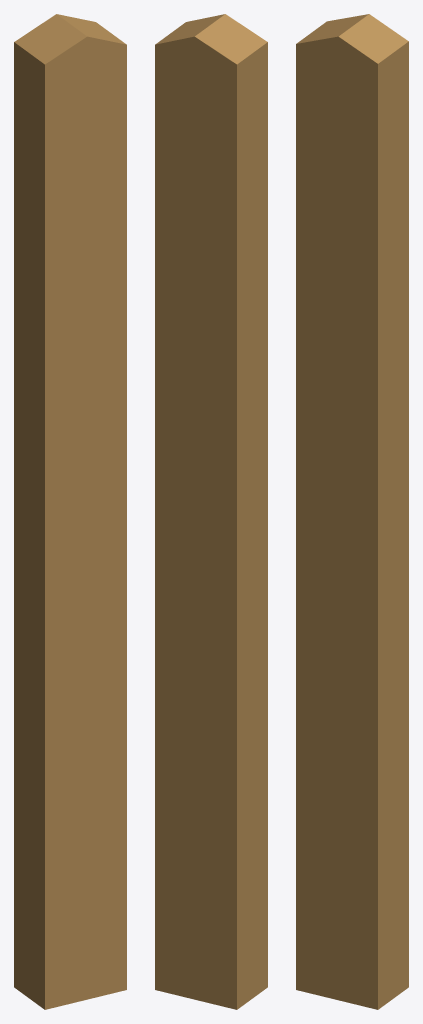
3 views of the same model, side by side, from view 1: azimuth 30°, elevation 25°; view 2: azimuth 150°, elevation 25°; view 3: azimuth 330°, elevation 25° (orthographic).
Parts seen in each view (by area): view 1: L4-6-S3-3DA-M04; view 2: L4-6-S3-3DA-M04; view 3: L4-6-S3-3DA-M04.
Boxes of the visible parts, x1=… form: L4-6-S3-3DA-M04: x1=14, y1=14, x2=126, y2=1009; L4-6-S3-3DA-M04: x1=155, y1=14, x2=267, y2=1009; L4-6-S3-3DA-M04: x1=296, y1=14, x2=408, y2=1009.
Size of the model in its own units: 0.069 by 0.7759 by 0.045.
